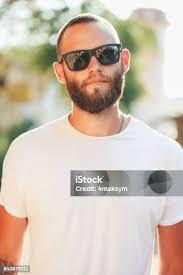sunglasses: (55, 37, 126, 76)
